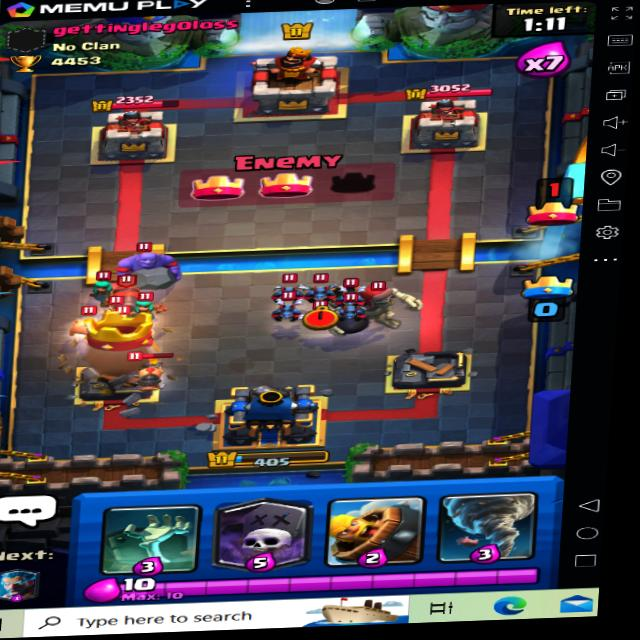bowler: (110, 233, 197, 295)
cannon-cart: (103, 272, 149, 314)
giant-skeleton: (329, 267, 430, 337)
minion: (267, 272, 305, 299), (340, 293, 373, 322), (268, 298, 303, 325), (305, 274, 334, 301)
rascal-girl: (127, 289, 166, 316), (85, 271, 123, 298)
royal-hogs: (75, 310, 115, 346), (134, 358, 171, 387)
